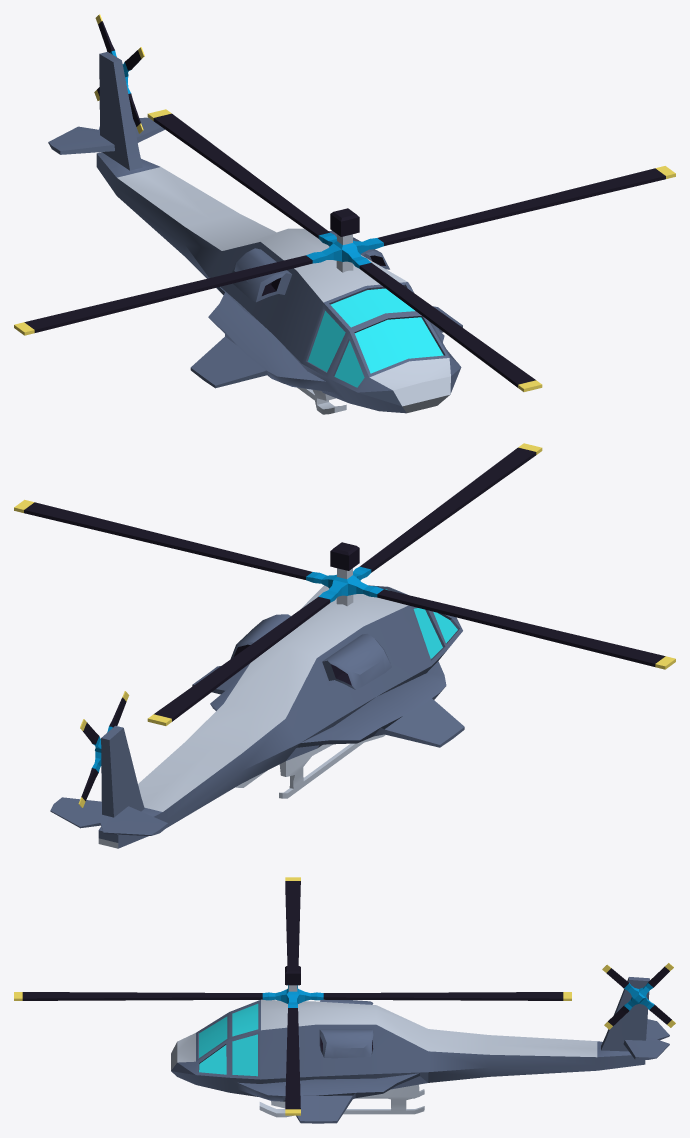
Rendered from heli.fbx.
The picture shows the model from 3 angles, top to bottom: view 1: azimuth 30°, elevation 25°; view 2: azimuth 150°, elevation 25°; view 3: azimuth 270°, elevation 25°; orthographic projection. The views are drawn at different scales.
Parts seen in each view (by area): view 1: body, wings; view 2: body, wings; view 3: body, wings.
Part boxes in pixels (x1,y1,x2,y2): body: (48,52,462,414); wings: (14,14,675,391); body: (50,585,464,848); wings: (14,443,675,807); body: (171,977,669,1123); wings: (14,877,675,1115).
Bounding box in the file's own units: 16.38 × 4.73 × 19.43.
